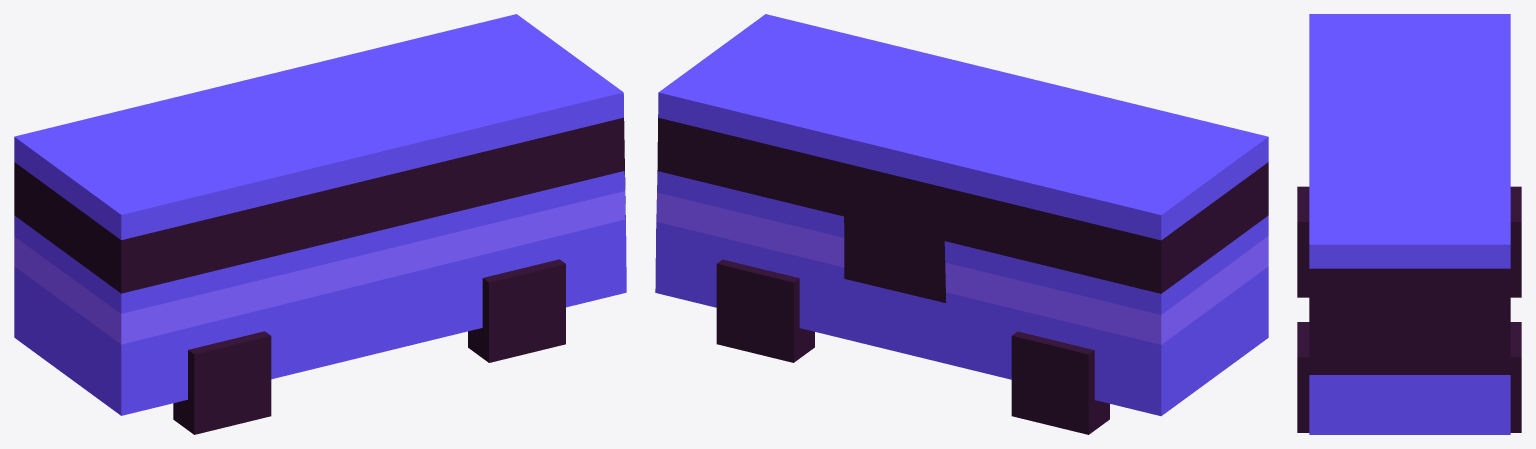
File: Bus_NoSpion_NoPlat.fbx
The picture shows the model from 3 angles, left to right: view 1: azimuth 30°, elevation 25°; view 2: azimuth 150°, elevation 25°; view 3: azimuth 270°, elevation 25°; orthographic projection. The views are drawn at different scales.
Visible parts, largest first — view 1: Bus_NoSpion_Plat.001; view 2: Bus_NoSpion_Plat.001; view 3: Bus_NoSpion_Plat.001.
Boxes of the visible parts, x1,y1,x2,y2 form: Bus_NoSpion_Plat.001: (14, 14, 626, 434); Bus_NoSpion_Plat.001: (655, 14, 1268, 434); Bus_NoSpion_Plat.001: (1297, 14, 1521, 434).
Bounding box in the file's own units: 1117 × 489 × 457.
